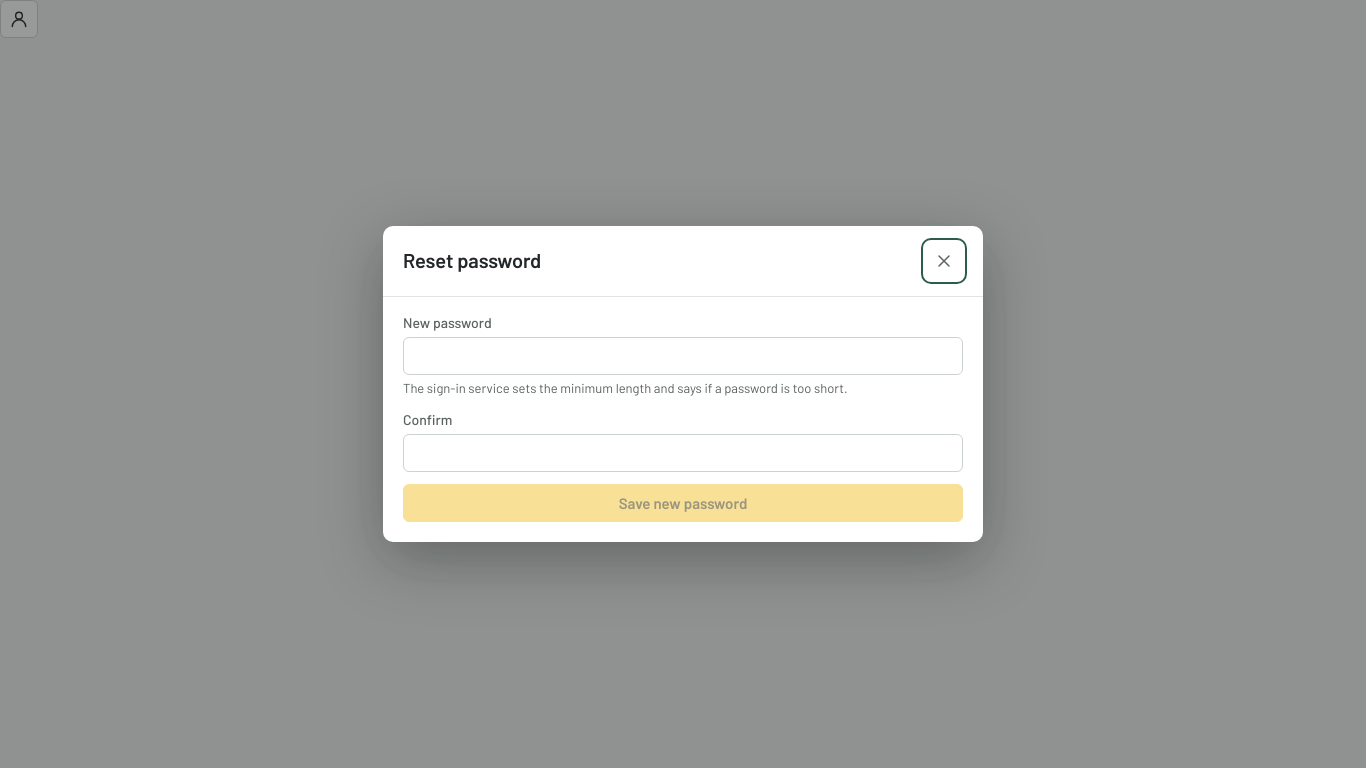
it: sign-in screens (ADR-136) › Reset with an expired link shows the expired text and Send a new link
In the password field labelled "New password": (683, 356) [403,337,963,375], type "new-pass-1"
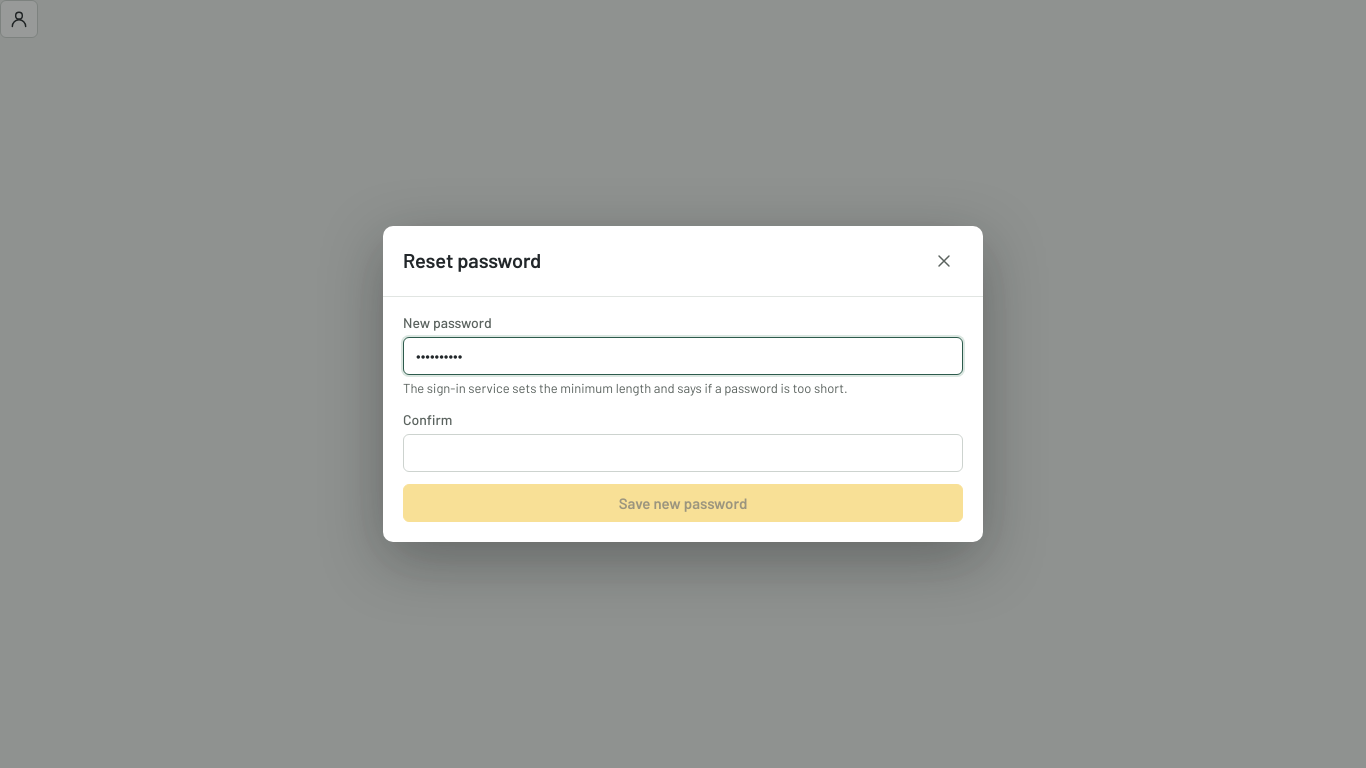
In the password field labelled "Confirm": (683, 453) [403,434,963,472], type "new-pass-1"
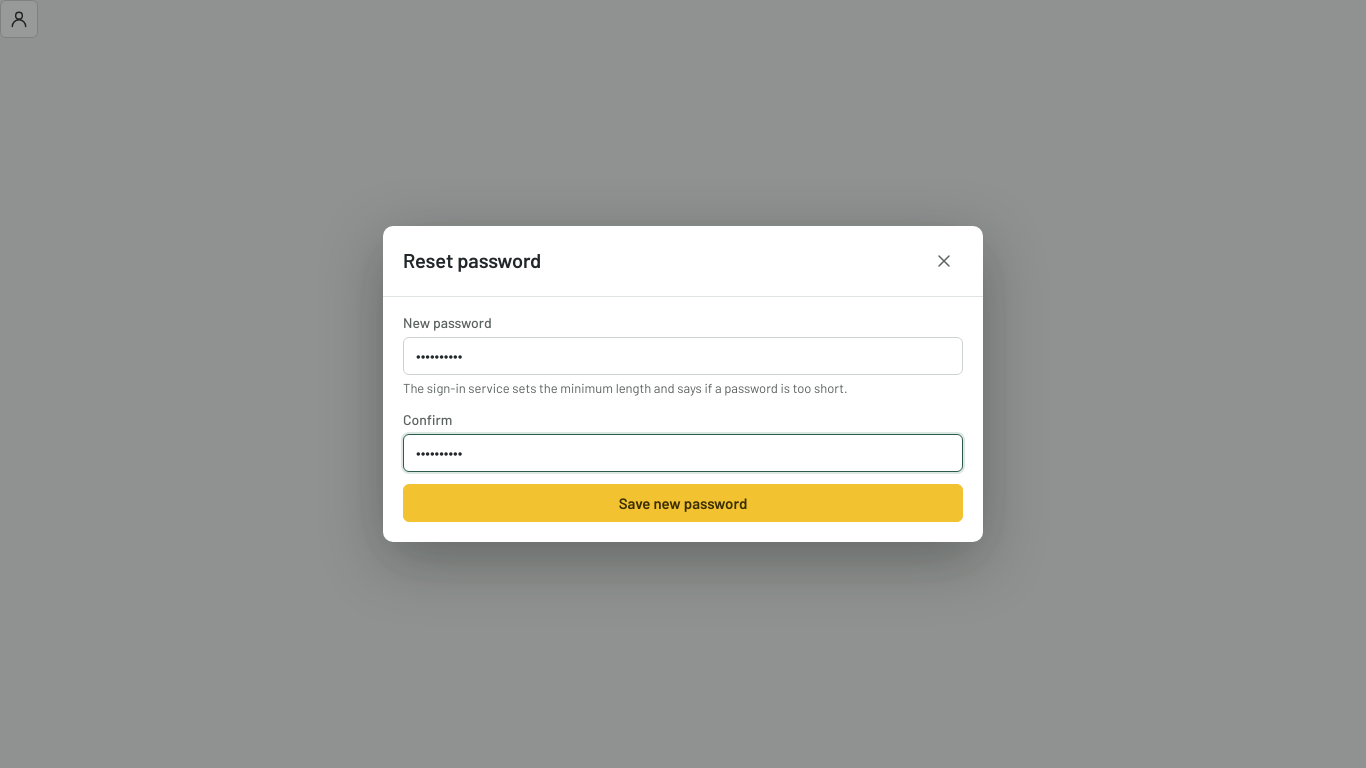
Click the button "Save new password": (683, 503) [403,484,963,522]
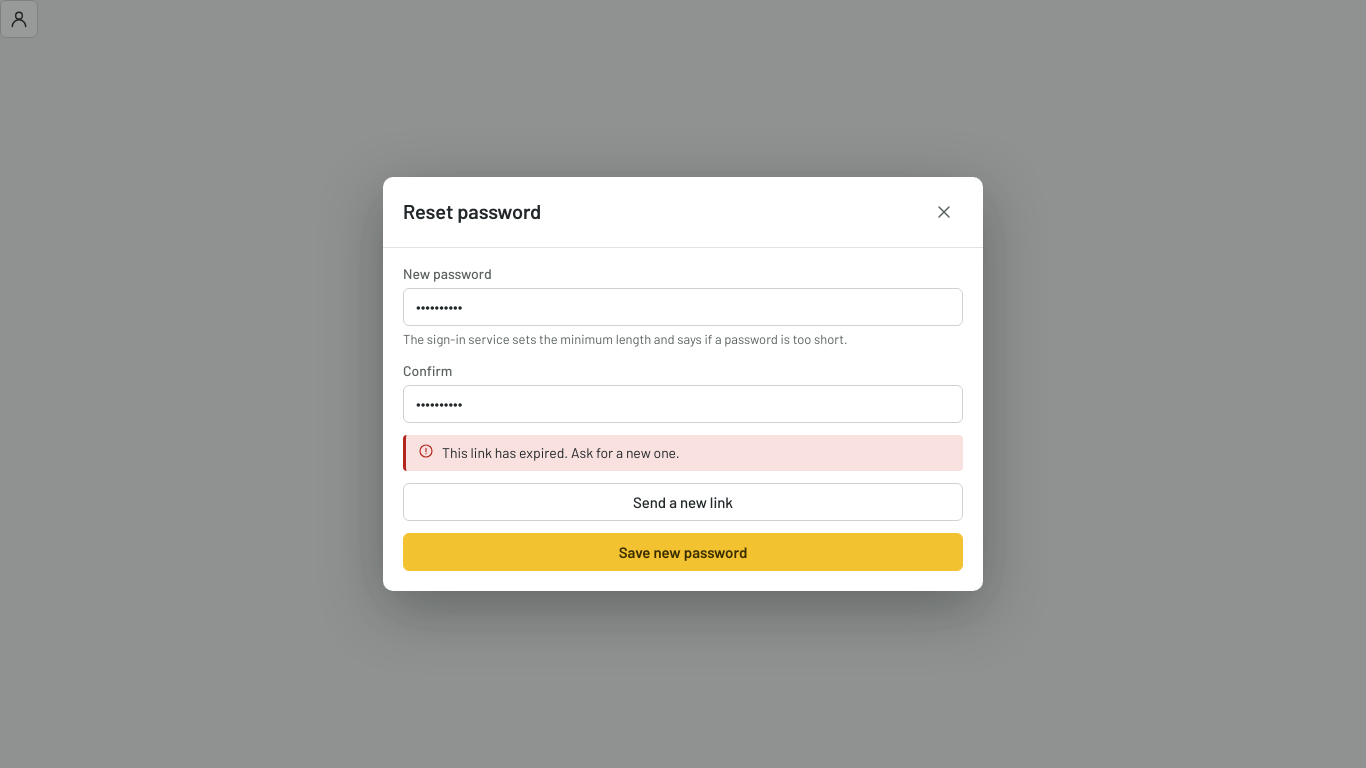
Now the text "This link has expired. Ask for a new one." is shown, box [442,444,680,461]
Now the button "Send a new link" is shown, box [403,483,963,521]
